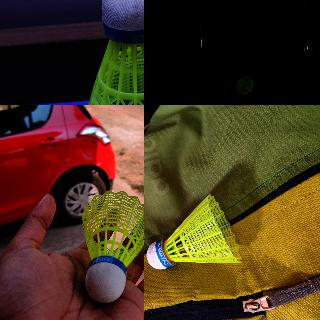shuttlecock: (146, 194, 244, 268), (81, 189, 143, 303), (76, 0, 143, 104), (235, 76, 253, 94)
